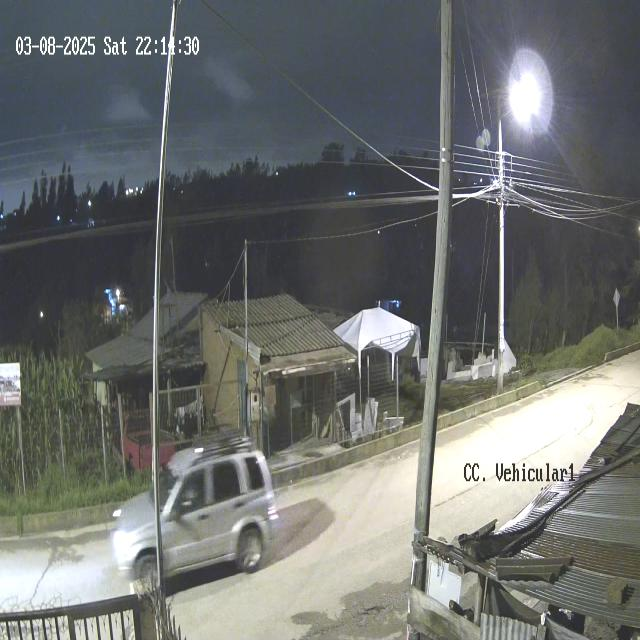SUV: (112, 434, 279, 590)
